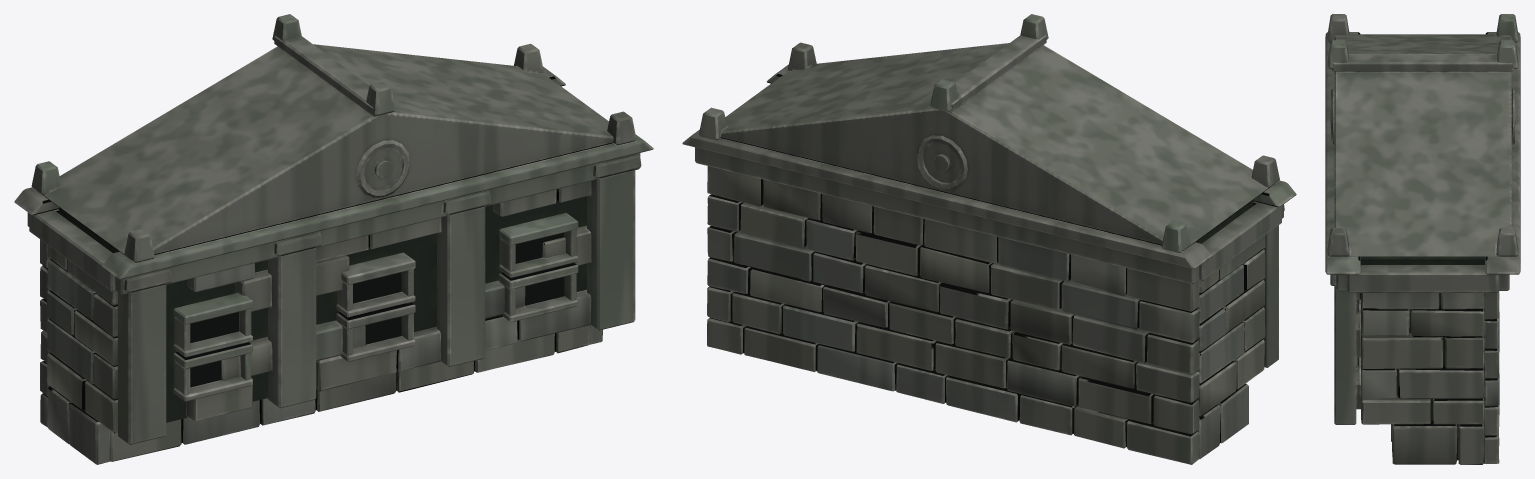
Rendered from crypt_gatehouse.glb.
The picture shows the model from 3 angles, left to right: view 1: azimuth 30°, elevation 25°; view 2: azimuth 150°, elevation 25°; view 3: azimuth 270°, elevation 25°; orthographic projection. The views are drawn at different scales.
Parts seen in each view (by area): view 1: crypt_gatehouse; view 2: crypt_gatehouse; view 3: crypt_gatehouse.
Boxes of the visible parts, x1,y1,x2,y2 form: crypt_gatehouse: [14, 14, 653, 464]; crypt_gatehouse: [682, 14, 1296, 464]; crypt_gatehouse: [1325, 14, 1520, 464].
Size of the model in its own units: 12.64 by 7.72 by 4.4.
Materials: 1 (1 with a texture image).
